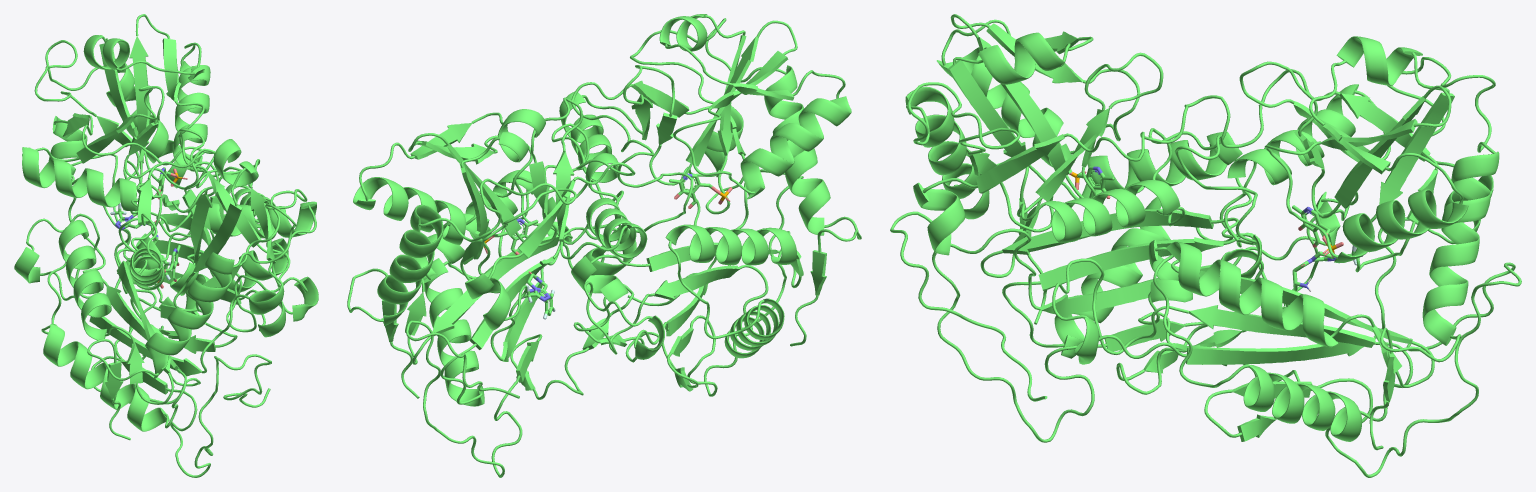
File: ATA-177-test.gltf
3 renders of one model, left to right at view 1: azimuth 30°, elevation 25°; view 2: azimuth 150°, elevation 25°; view 3: azimuth 270°, elevation 25°, orthographic. The views are drawn at different scales.
Visible parts, largest first — view 1: node-geom153, node-geom154, node-geom155, node-geom152, node-geom156; view 2: node-geom153, node-geom155, node-geom154, node-geom152, node-geom156; view 3: node-geom155, node-geom152, node-geom153, node-geom154, node-geom156.
Part boxes in pixels (x1,y1,x2,y2): node-geom153: (22, 14, 219, 232); node-geom154: (41, 65, 271, 477); node-geom155: (14, 128, 316, 376); node-geom152: (48, 149, 318, 360); node-geom156: (87, 144, 307, 440); node-geom153: (353, 97, 647, 330); node-geom155: (559, 14, 851, 359); node-geom154: (347, 169, 803, 398); node-geom152: (405, 170, 636, 477); node-geom156: (630, 14, 861, 346); node-geom155: (913, 14, 1358, 317); node-geom152: (1052, 201, 1521, 477); node-geom153: (1174, 36, 1499, 304); node-geom154: (890, 131, 1498, 450); node-geom156: (905, 35, 1056, 324).
Size of the model in its own units: 54.28 by 57.52 by 76.23.
